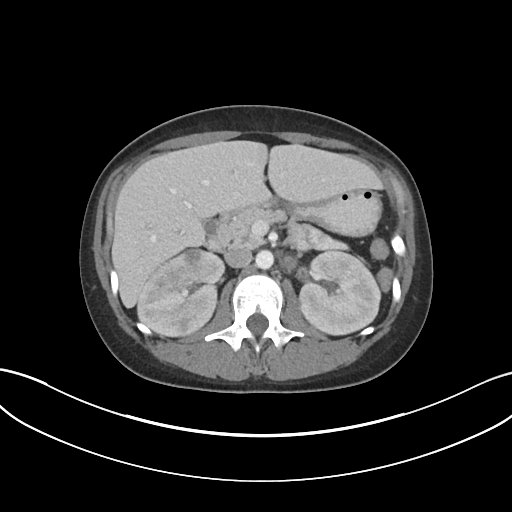Lesion: (180, 246, 208, 267)
